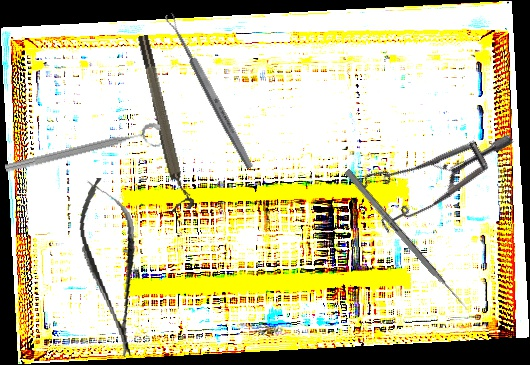Fixation Ring: (134, 32, 196, 213), (3, 121, 165, 185)
Micro Scissor: (71, 174, 152, 361)
Pusher: (344, 168, 470, 313)
Speculum: (341, 76, 517, 262)
Surgical Spoon: (163, 11, 256, 171)
